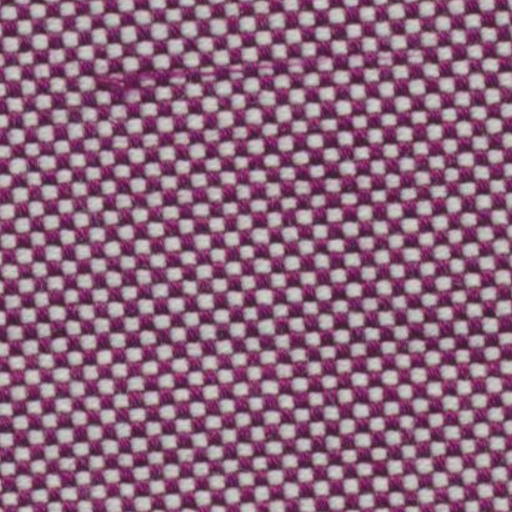DuanSha: (81, 50, 364, 102)
